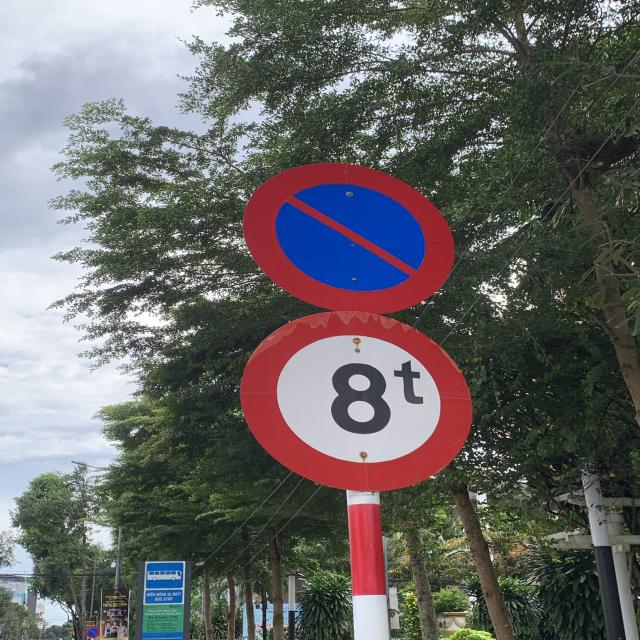Cam_Dau_Xe: (250, 161, 457, 313)
